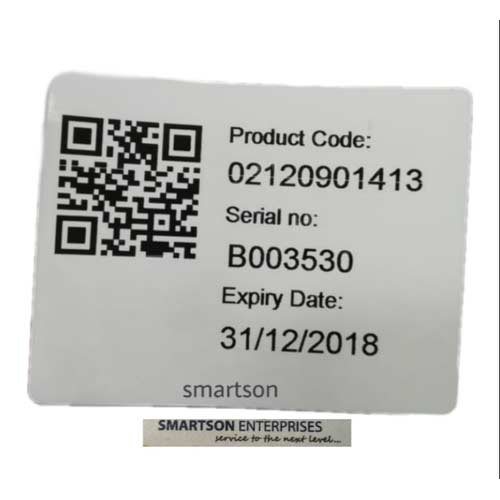qr_code: (52, 101, 202, 270)
